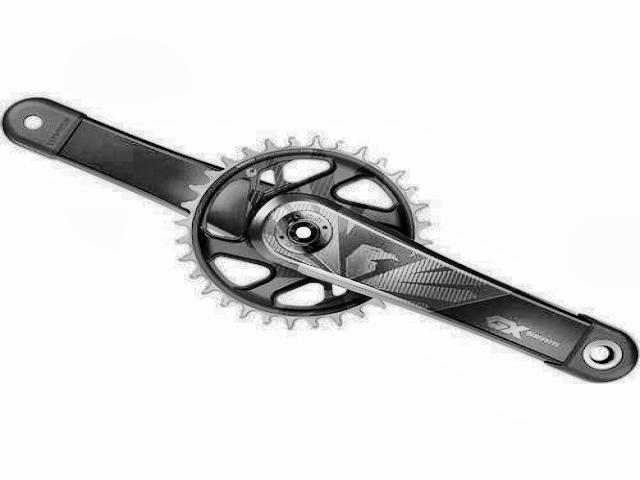cranks_set: (171, 130, 640, 385)
